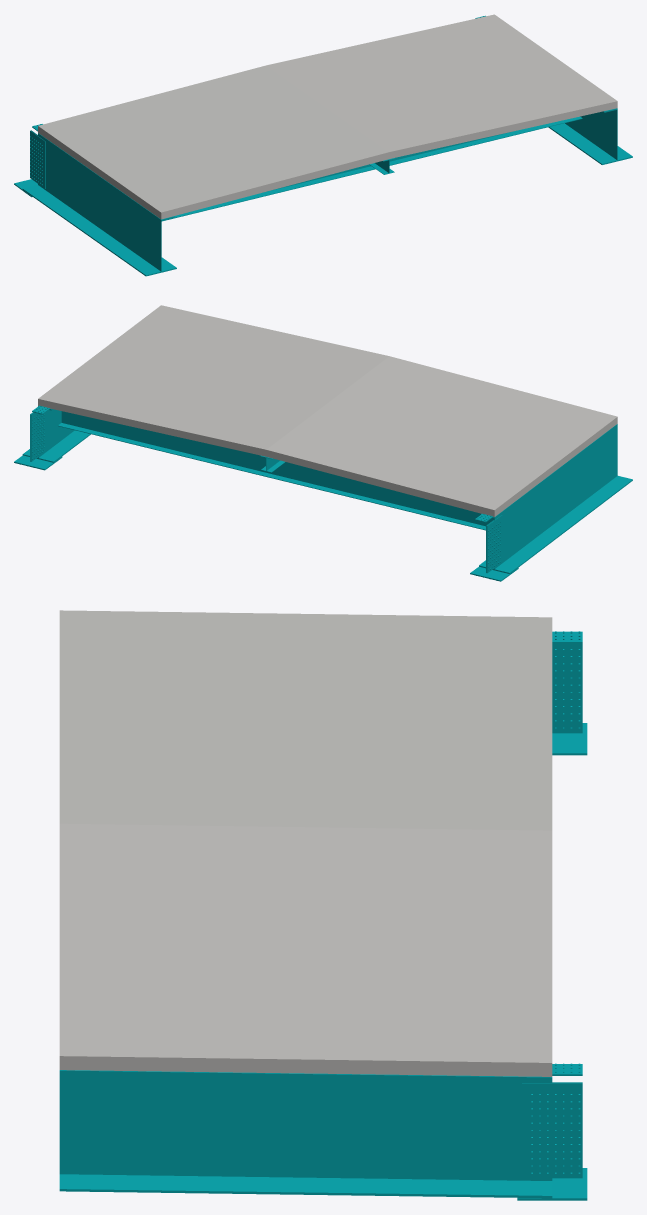
File: DECK_SS02.glb
3 views of the same model, one above another, from view 1: azimuth 30°, elevation 25°; view 2: azimuth 150°, elevation 25°; view 3: azimuth 270°, elevation 25° (orthographic). The views are drawn at different scales.
Parts seen in each view (by area): view 1: SS02_Slab_11, SS02_G_W_0, SS02_G_E_1, SS02_FB_bf_10, SS02_SpliceW_13, SS02_FB_web_7; view 2: SS02_Slab_11, SS02_G_W_0, SS02_FB_web_3, SS02_FB_bf_6, SS02_G_E_1, SS02_SpliceW_13, SS02_SpliceW_21; view 3: SS02_Slab_11, SS02_G_E_1, SS02_SpliceW_22, SS02_SpliceW_14, SS02_SpliceB_23, SS02_SpliceB_15.
Boxes of the visible parts, x1,y1,x2,y2 form: SS02_Slab_11: (38, 14, 617, 219); SS02_G_W_0: (22, 133, 176, 276); SS02_G_E_1: (548, 108, 632, 164); SS02_FB_bf_10: (161, 116, 582, 221); SS02_SpliceW_13: (30, 130, 45, 188); SS02_FB_web_7: (267, 132, 510, 191); SS02_Slab_11: (38, 305, 617, 516); SS02_G_W_0: (479, 424, 632, 573); SS02_FB_web_3: (61, 411, 493, 526); SS02_FB_bf_6: (57, 423, 485, 530); SS02_G_E_1: (22, 406, 90, 462); SS02_SpliceW_13: (487, 515, 502, 573); SS02_SpliceW_21: (31, 412, 46, 461); SS02_Slab_11: (59, 610, 552, 1076); SS02_G_E_1: (59, 1070, 552, 1198); SS02_SpliceW_22: (522, 1083, 582, 1178); SS02_SpliceW_14: (552, 643, 582, 733); SS02_SpliceB_23: (517, 1168, 587, 1200); SS02_SpliceB_15: (552, 723, 587, 755).
Bounding box in the file's own units: 18.26 × 2.52 × 8.57.
